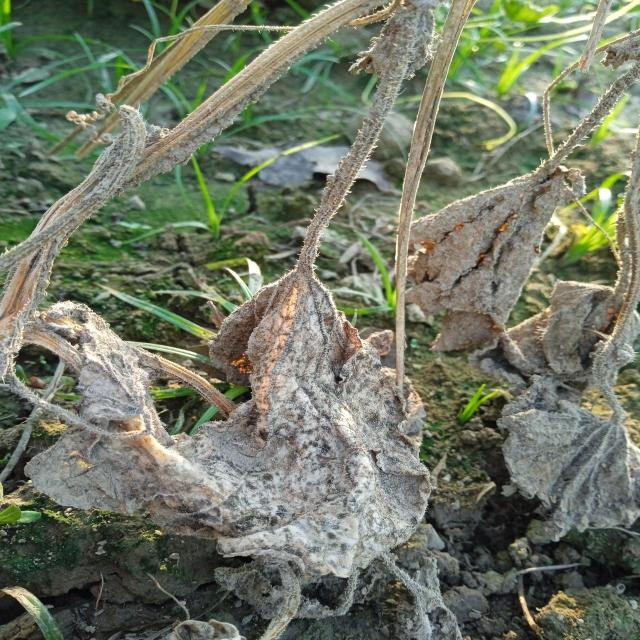cucumber_bacterial: (24, 256, 426, 613), (388, 122, 590, 350), (488, 300, 638, 588)
